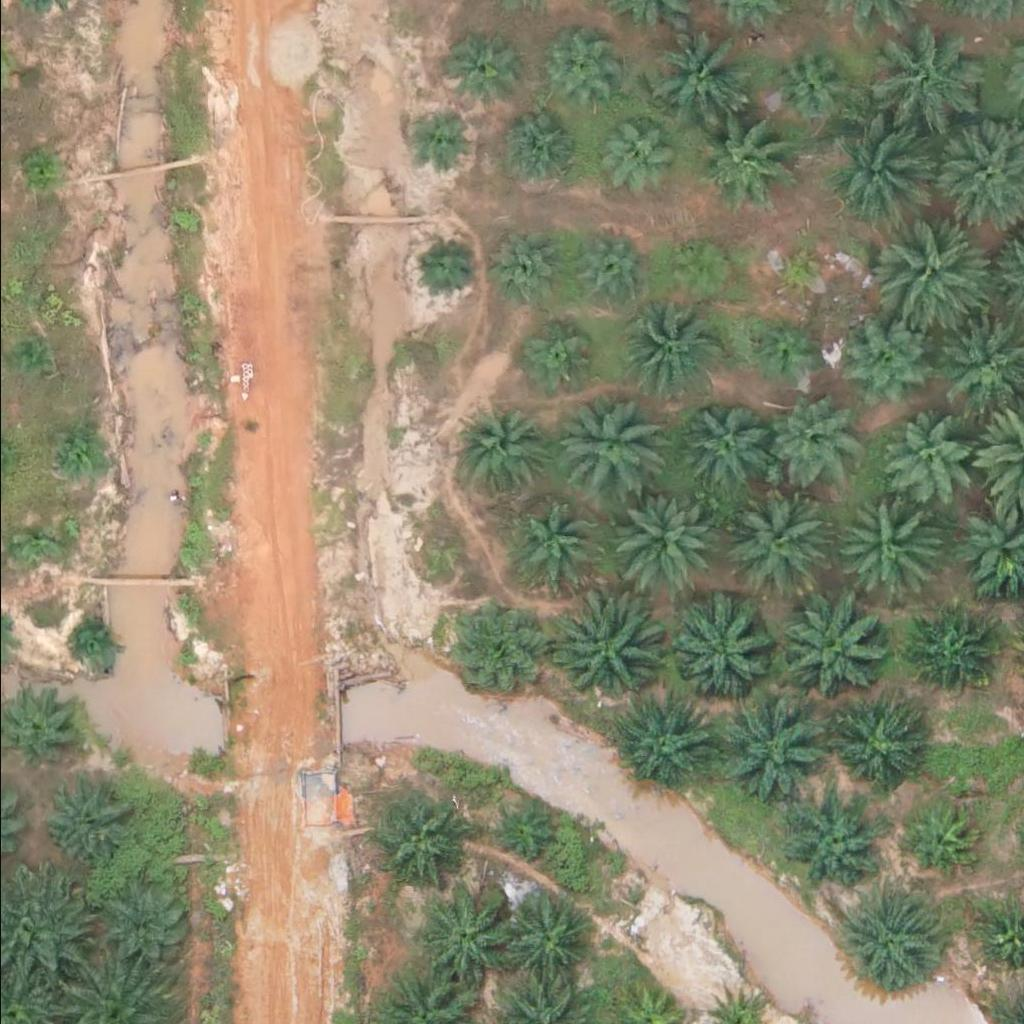Kelapa_Sawit: (720, 691, 833, 804), (776, 592, 889, 705), (665, 596, 778, 709), (829, 112, 943, 224), (553, 595, 666, 707), (875, 213, 988, 325), (97, 870, 198, 970), (492, 888, 593, 988), (611, 690, 712, 790), (366, 790, 467, 890), (438, 598, 539, 698), (831, 495, 932, 595), (719, 490, 820, 590), (611, 486, 712, 586), (838, 314, 939, 414), (690, 106, 791, 206), (641, 20, 742, 120), (869, 20, 970, 120), (624, 305, 725, 405), (835, 890, 935, 990), (413, 883, 513, 983), (782, 796, 882, 896), (560, 397, 660, 497), (827, 701, 915, 789), (764, 394, 852, 482), (481, 219, 569, 307), (765, 41, 853, 129), (38, 776, 127, 863), (676, 397, 765, 484), (908, 604, 996, 691), (506, 504, 594, 591), (457, 406, 545, 493), (884, 412, 972, 499), (562, 229, 650, 316), (591, 112, 667, 187), (503, 114, 579, 189), (743, 313, 819, 388), (903, 802, 979, 877), (656, 232, 732, 307), (522, 320, 597, 395), (537, 32, 612, 107), (437, 30, 512, 105), (480, 796, 555, 871), (408, 103, 471, 166), (412, 236, 475, 298), (768, 239, 831, 301), (71, 615, 121, 665), (8, 518, 58, 568), (54, 426, 104, 476), (5, 335, 43, 373), (21, 149, 59, 186)
